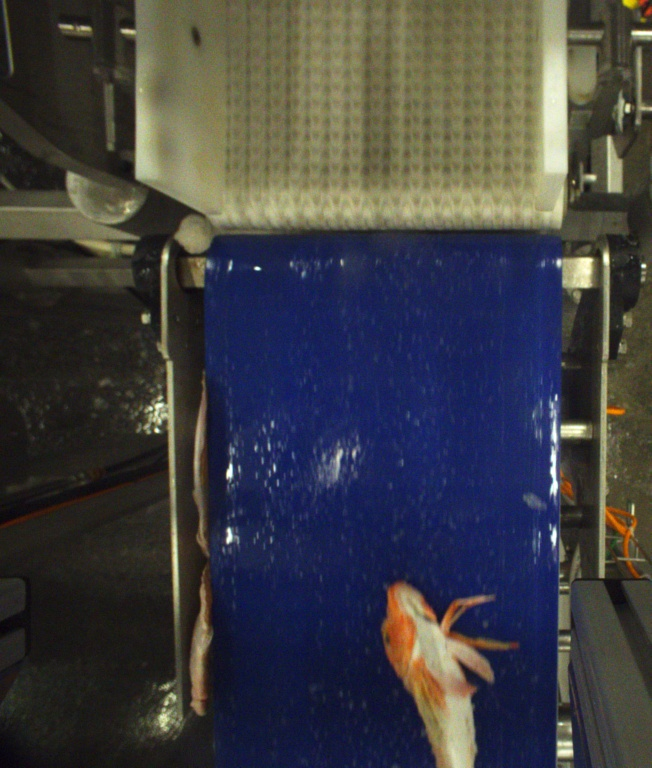GUU: (378, 575, 519, 768)
